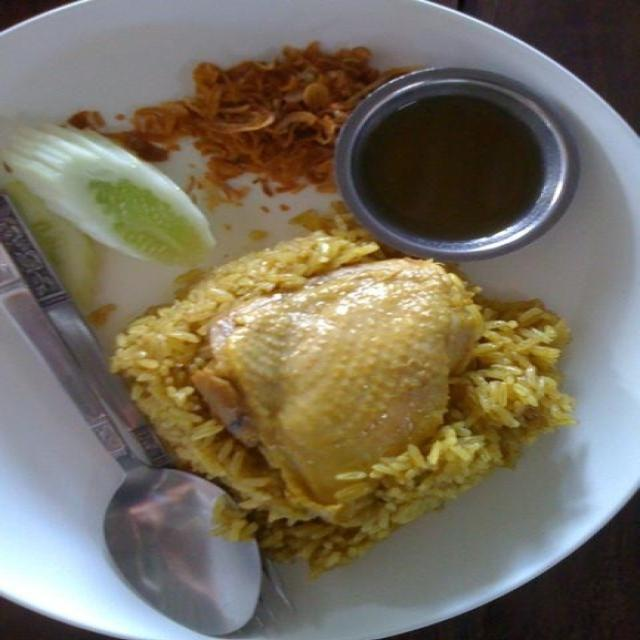米饭主食: (8, 2, 626, 626)
